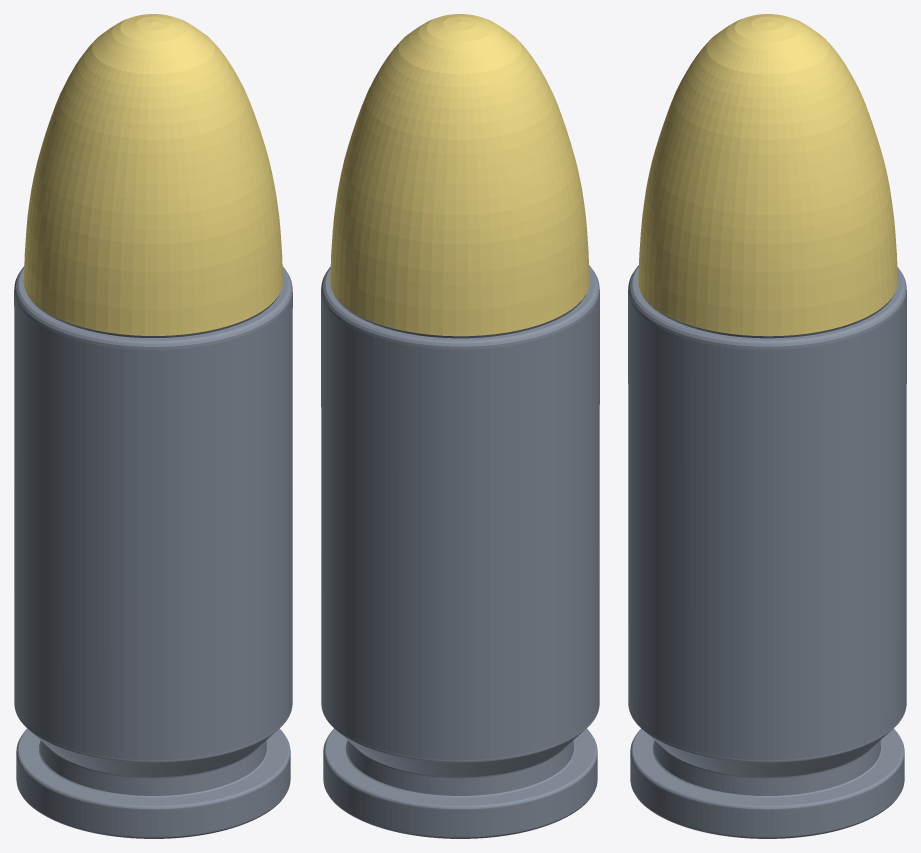
3 renders of one model, left to right at view 1: azimuth 30°, elevation 25°; view 2: azimuth 150°, elevation 25°; view 3: azimuth 270°, elevation 25°, orthographic.
Parts seen in each view (by area): view 1: Bullet; view 2: Bullet; view 3: Bullet.
Boxes of the visible parts, x1,y1,x2,y2 form: Bullet: [14, 14, 292, 838]; Bullet: [321, 14, 599, 838]; Bullet: [628, 14, 906, 838].
Bounding box in the file's own units: 3.36 × 10.1 × 3.36.
